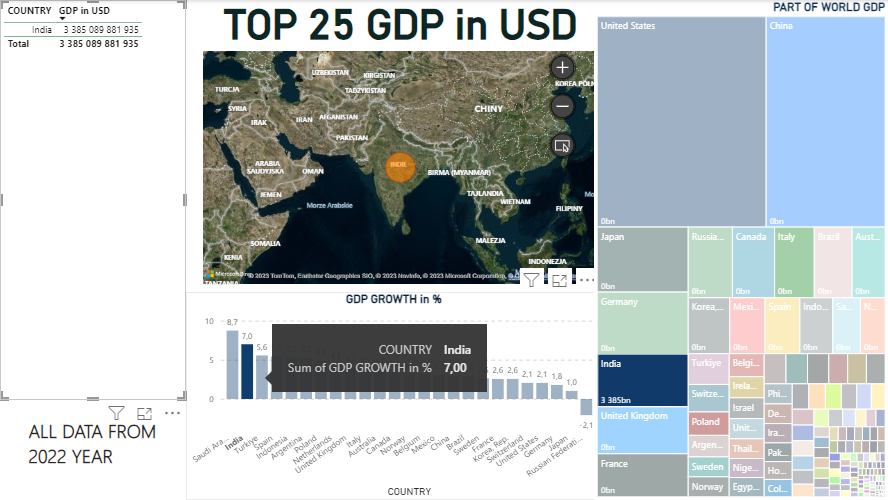

This screenshot's page, from the dashboard's own definition file:
{"tool":"powerbi","page":{"name":"Page 1","canvas":[1280,720],"ordinal":0},"visuals":[{"type":"tableEx","fields":{"Values":["general_data.COUNTRY (data from WB)","Sum(general_data.GDP in USD)"]},"box":[0,0,267.1,575.7],"z":0},{"type":"map","title":"TOP 25 GDP in USD","fields":{"Category":["general_data.COUNTRY"],"Size":["Sum(general_data.GDP in USD)"]},"box":[288.6,0,577.1,414.3],"z":1000},{"type":"clusteredColumnChart","title":"GDP GROWTH in %","fields":{"Category":["general_data.COUNTRY"],"Y":["Sum(general_data.GDP GROWTH in %)"]},"box":[267.1,420,598.6,300],"z":2000},{"type":"treemap","title":"PART OF WORLD GDP","fields":{"Group":["general_data.COUNTRY"],"Values":["Sum(general_data.GDP in USD)"]},"box":[855.7,0,424.3,720],"z":3000},{"type":"textbox","box":[35.7,595.7,207.1,90],"z":4000}]}

Visuals, with their boxes on the page's 1280x720 design canvas (x1, y1, x2, y2). These are canvas units, not pixel positions in the 888x500 screenshot, which may show the page scaled, cropped or inside an application window:
tableEx - general_data.COUNTRY (data from WB) x Sum(general_data.GDP in USD): bbox(0, 0, 267, 576)
"TOP 25 GDP in USD" map: bbox(289, 0, 866, 414)
"GDP GROWTH in %" clusteredColumnChart: bbox(267, 420, 866, 720)
"PART OF WORLD GDP" treemap: bbox(856, 0, 1280, 720)
textbox: bbox(36, 596, 243, 686)
